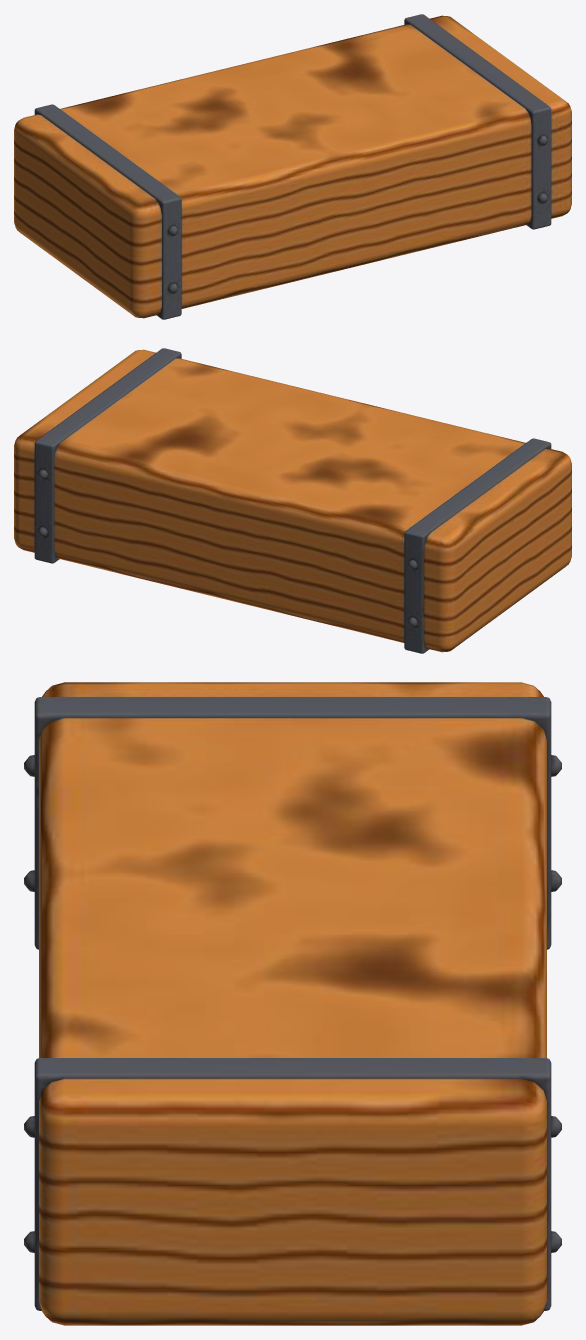
File: kalas2.glb
3 views of the same model, one above another, from view 1: azimuth 30°, elevation 25°; view 2: azimuth 150°, elevation 25°; view 3: azimuth 270°, elevation 25° (orthographic). The views are drawn at different scales.
Visible parts, largest first — view 1: kalas; view 2: kalas; view 3: kalas.
Boxes of the visible parts, <box> form: kalas: <box>14,14,571,319</box>; kalas: <box>14,348,571,653</box>; kalas: <box>24,682,561,1325</box>.
Size of the model in its own units: 2 by 0.516 by 1.06.
2 materials, 2 textured.
